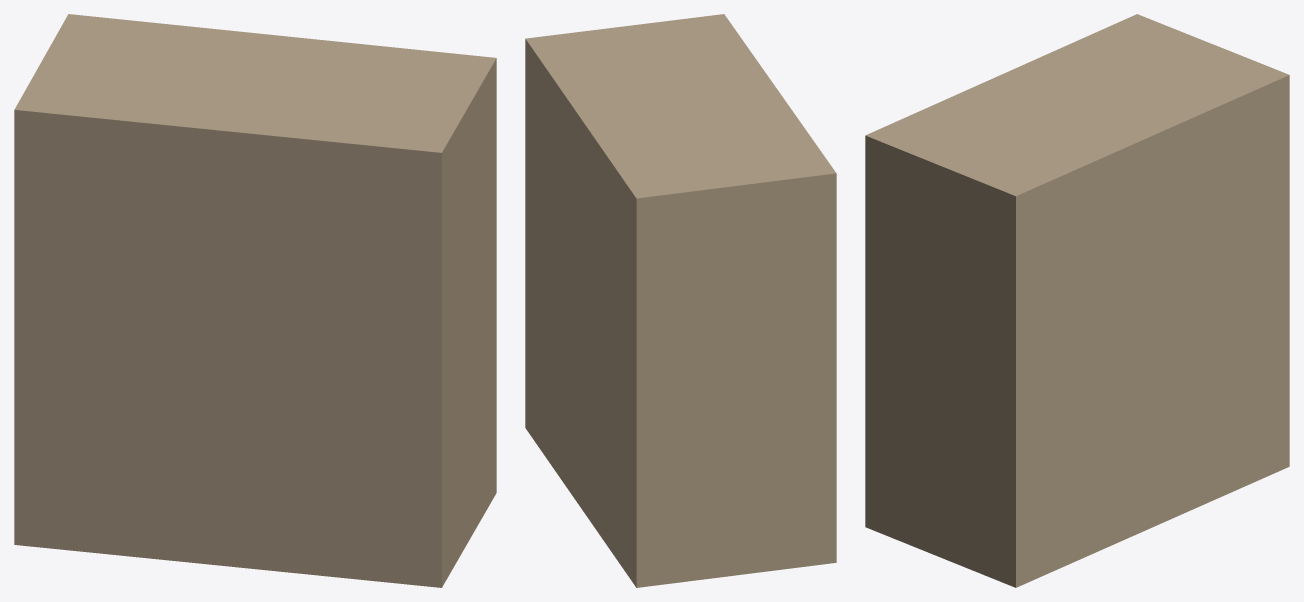
Rendered from bld_99015988.dae.
The picture shows the model from 3 angles, left to right: view 1: azimuth 30°, elevation 25°; view 2: azimuth 150°, elevation 25°; view 3: azimuth 270°, elevation 25°; orthographic projection. The views are drawn at different scales.
Visible parts, largest first — view 1: bld_99015988; view 2: bld_99015988; view 3: bld_99015988.
Part boxes in pixels (box(x1,y1,x2,y2)): bld_99015988: box(14, 14, 496, 587); bld_99015988: box(525, 14, 836, 587); bld_99015988: box(865, 14, 1289, 587).
Size of the model in its own units: 7.98 by 7.86 by 8.
